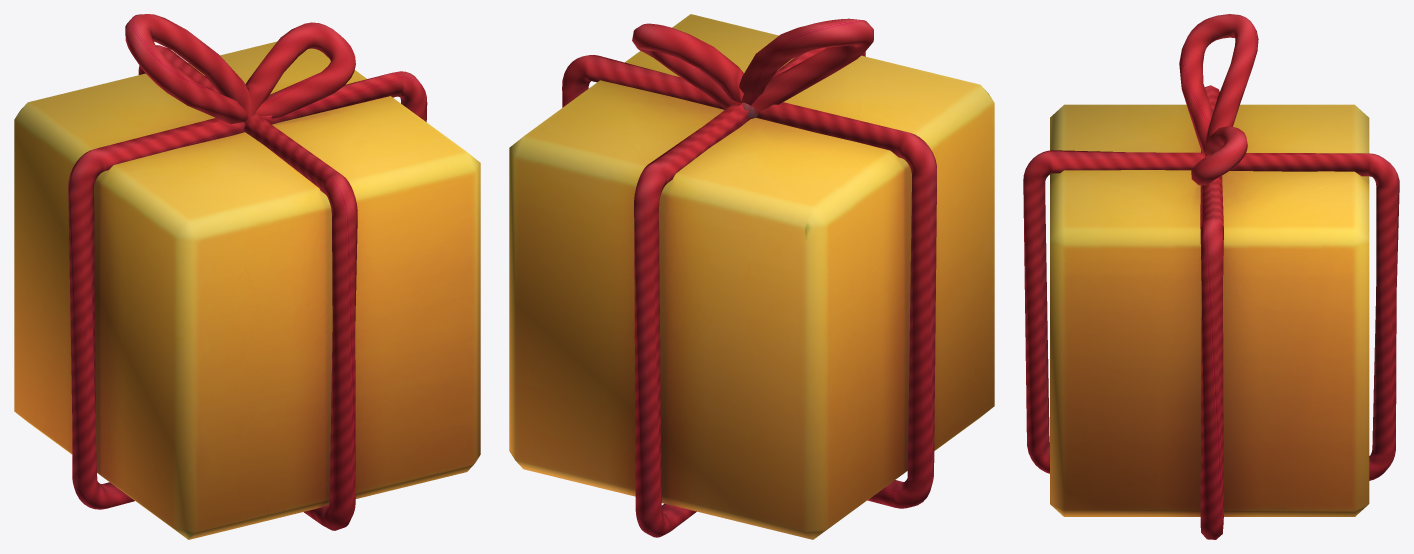
The model's file is SE_Present_02.fbx.
3 renders of one model, left to right at view 1: azimuth 30°, elevation 25°; view 2: azimuth 150°, elevation 25°; view 3: azimuth 270°, elevation 25°, orthographic. The views are drawn at different scales.
Visible parts, largest first — view 1: SE_Present_02; view 2: SE_Present_02; view 3: SE_Present_02.
Boxes of the visible parts, x1=… form: SE_Present_02: x1=14, y1=14, x2=480, y2=539; SE_Present_02: x1=509, y1=14, x2=994, y2=539; SE_Present_02: x1=1023, y1=14, x2=1399, y2=539.
Size of the model in its own units: 1.78 by 2.23 by 1.8.
